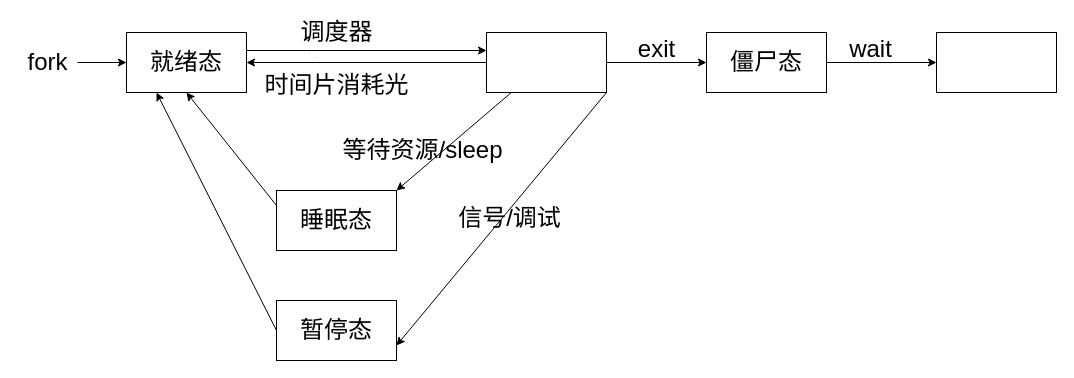
Some shapes in this 1074 by 378 pixel diagram are drawn without their labels. The centre of each missing label's shape, as x and y in pixels:
"死亡态" goes at point (996, 62).
"运行态" goes at point (546, 62).
